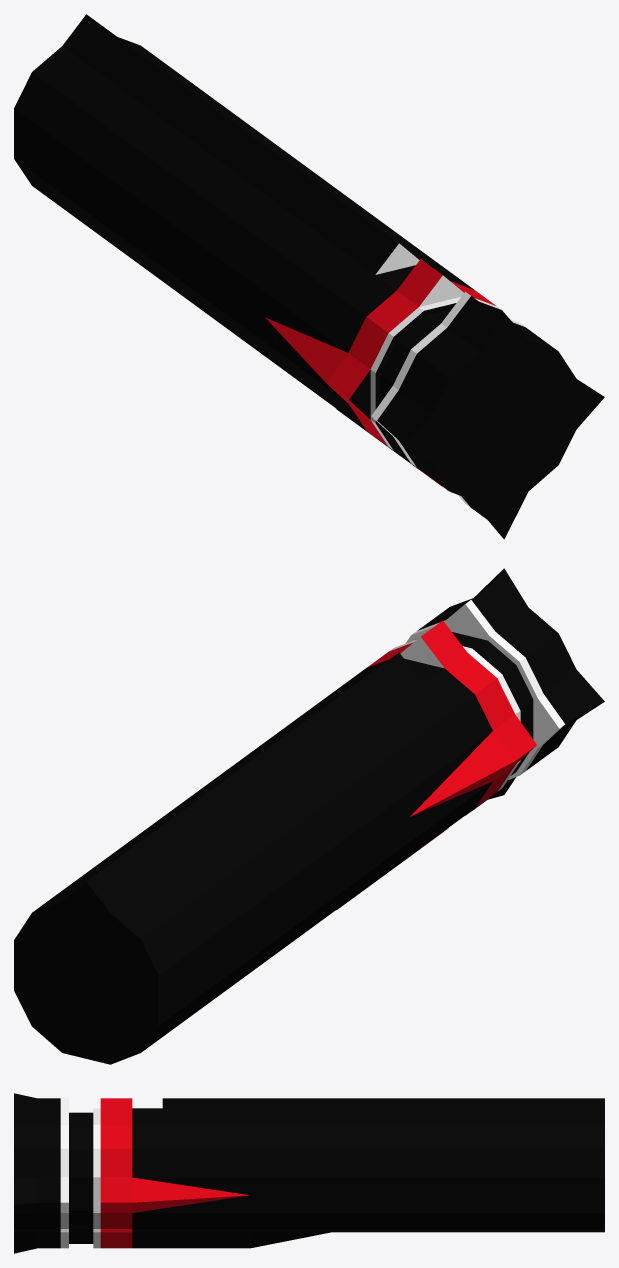
Rendered from rlauncher.fbx.
The picture shows the model from 3 angles, top to bottom: view 1: azimuth 30°, elevation 25°; view 2: azimuth 150°, elevation 25°; view 3: azimuth 270°, elevation 25°; orthographic projection. The views are drawn at different scales.
Parts seen in each view (by area): view 1: Cube; view 2: Cube; view 3: Cube.
Boxes of the visible parts, x1,y1,x2,y2 form: Cube: (14, 14, 604, 539); Cube: (14, 568, 604, 1064); Cube: (14, 1093, 604, 1253).
Bounding box in the file's own units: 278 × 300 × 1000.
